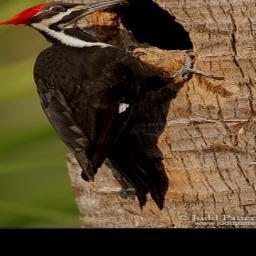Woodpecker: (0, 0, 226, 211)
